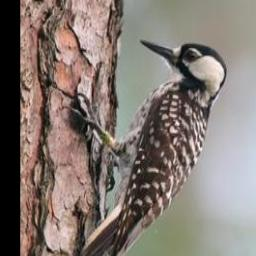Woodpecker: (63, 38, 228, 256)
